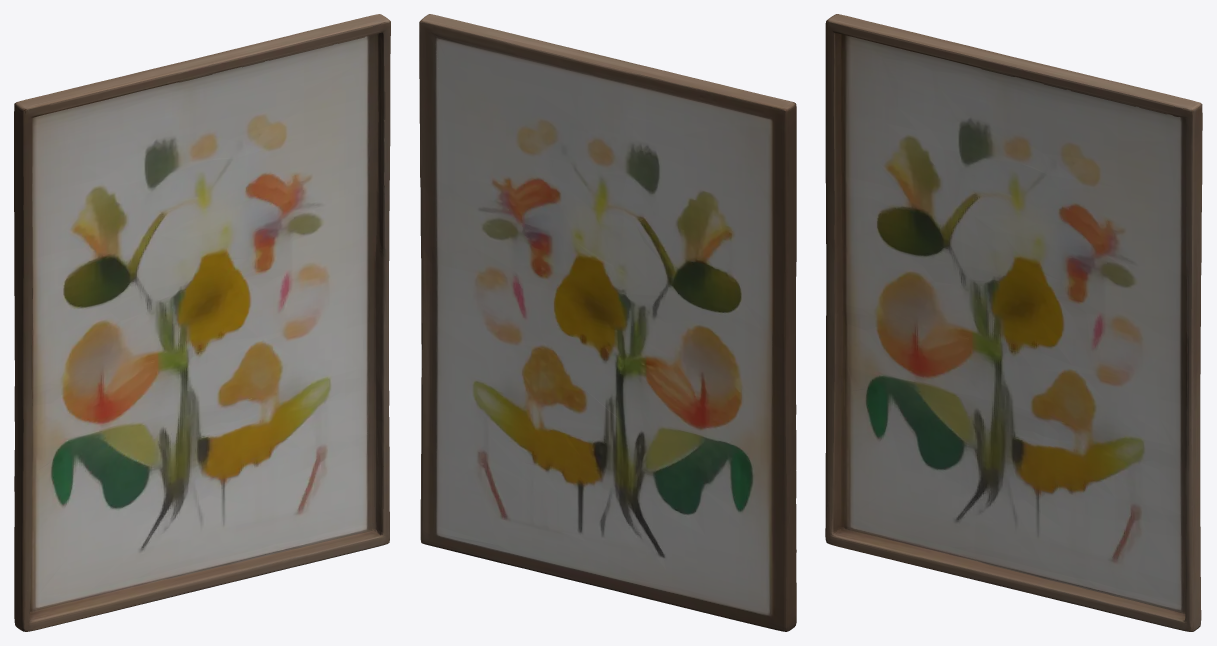
File: framed_painting.glb
The picture shows the model from 3 angles, left to right: view 1: azimuth 30°, elevation 25°; view 2: azimuth 150°, elevation 25°; view 3: azimuth 330°, elevation 25°; orthographic projection.
Parts seen in each view (by area): view 1: geometry_0; view 2: geometry_0; view 3: geometry_0.
Part boxes in pixels (x1,y1,x2,y2): geometry_0: [14, 14, 390, 631]; geometry_0: [419, 14, 796, 631]; geometry_0: [825, 14, 1202, 631].
Bounding box in the file's own units: 0.7371 × 1 × 0.0379.
Materials: 1 (1 with a texture image).
